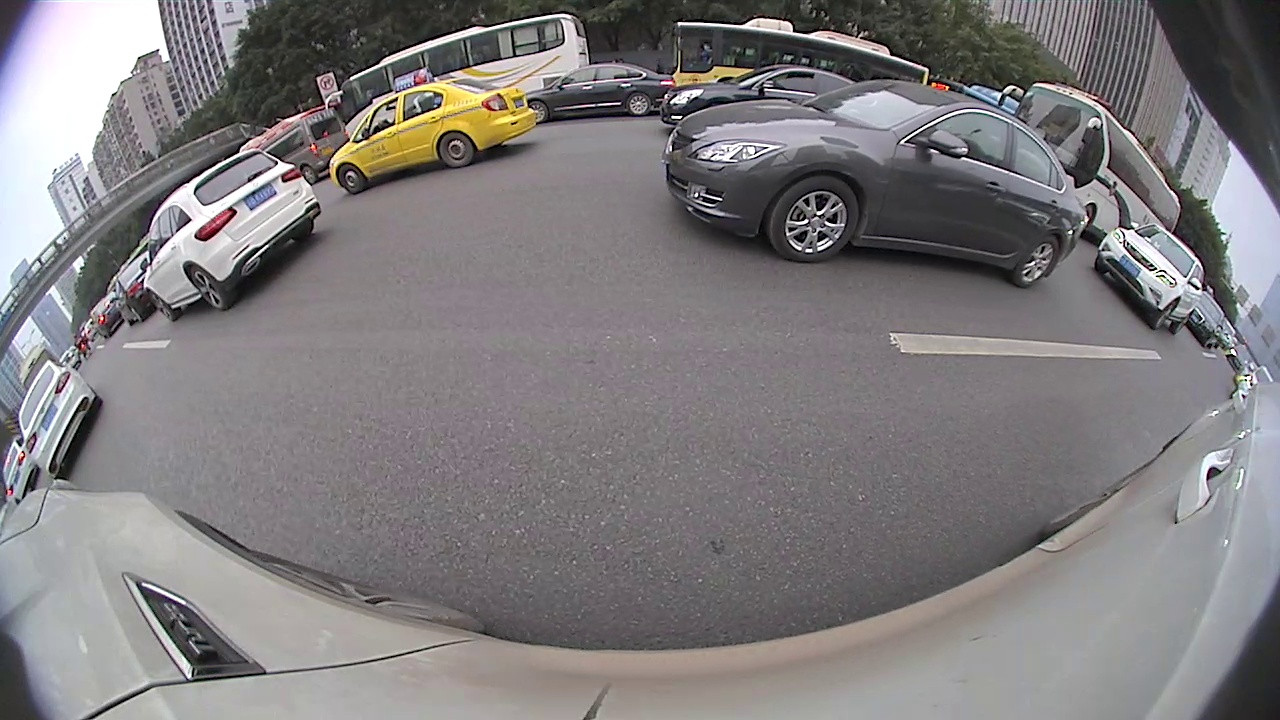bus: (322, 14, 587, 130), (1000, 78, 1186, 241), (675, 13, 934, 97), (13, 343, 62, 385)
car: (664, 78, 1089, 289), (136, 146, 326, 323), (329, 74, 538, 198), (1091, 221, 1205, 338), (659, 66, 861, 128), (13, 358, 105, 483), (524, 61, 675, 120), (247, 104, 343, 182), (108, 245, 164, 328), (1183, 291, 1226, 354), (1, 431, 39, 502), (1232, 352, 1277, 404), (88, 293, 127, 335)
front: (769, 177, 861, 263), (145, 290, 180, 319), (1151, 298, 1180, 329), (336, 164, 365, 193), (527, 101, 546, 122)
rear: (1014, 238, 1060, 286), (185, 262, 228, 309), (439, 133, 475, 168), (626, 93, 651, 115), (1172, 310, 1193, 333), (301, 164, 315, 182)
